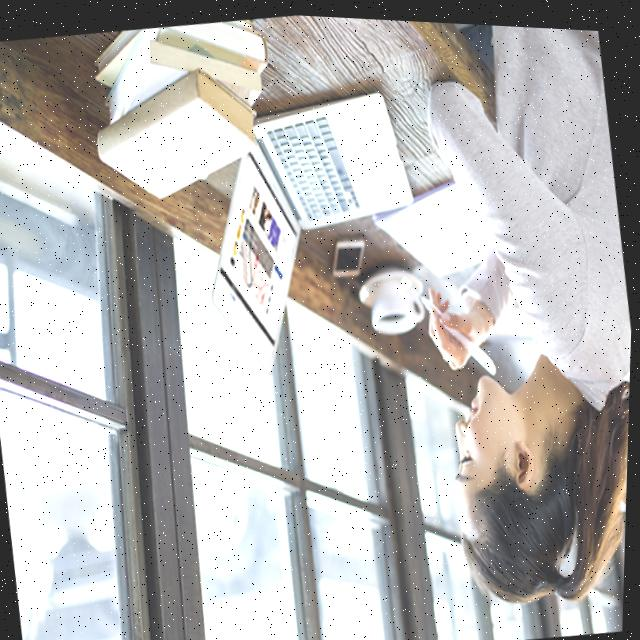studying-person: (332, 14, 640, 640)
